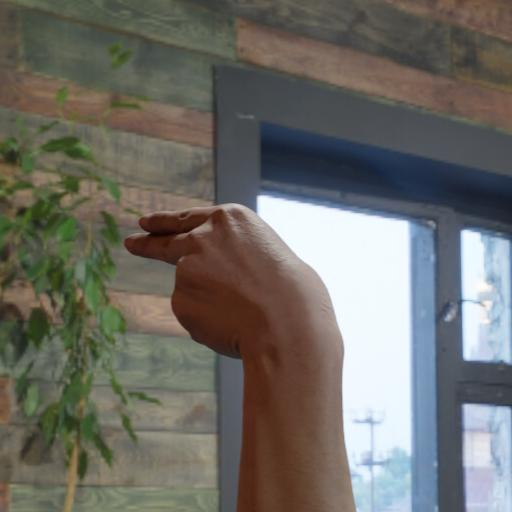H: (107, 190, 356, 512)
